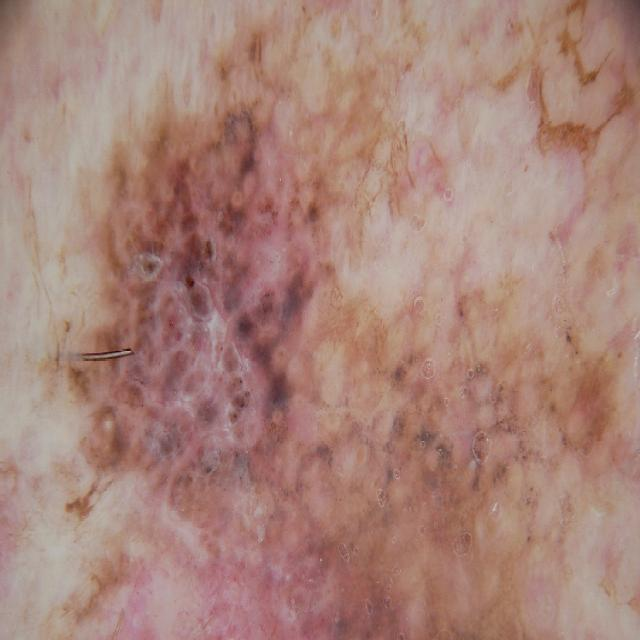Melanoma: (2, 74, 626, 640)
